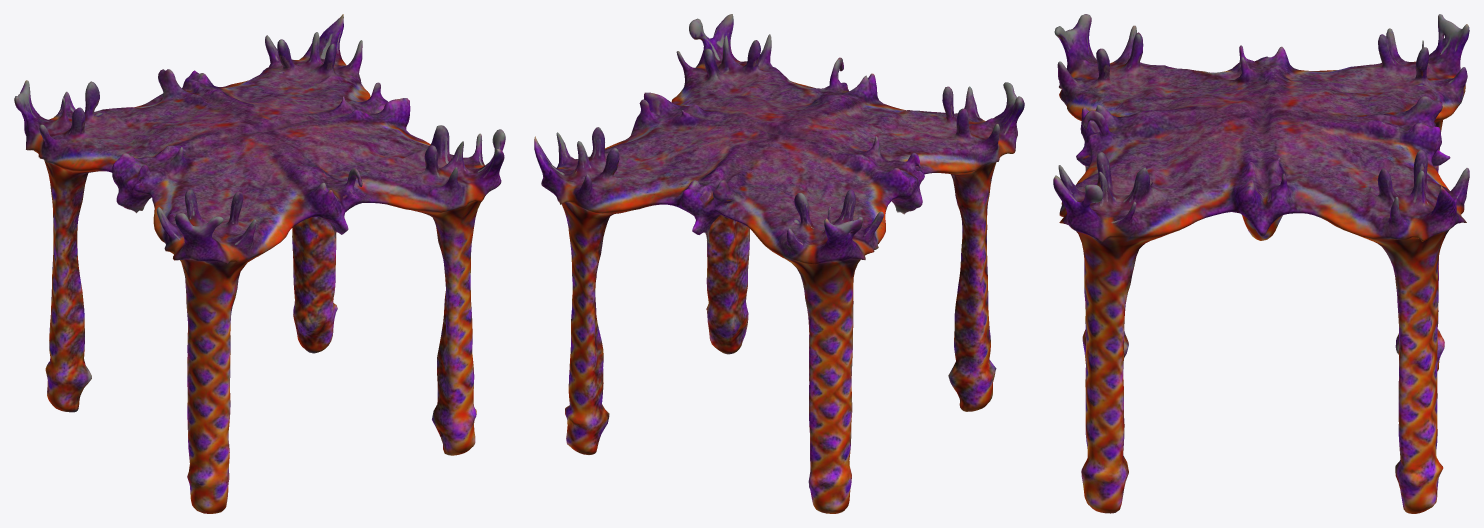
The model's file is ee5b97a8d331_88c4f2b4c6c7_starfish_pergola_un.glb.
The picture shows the model from 3 angles, left to right: view 1: azimuth 30°, elevation 25°; view 2: azimuth 150°, elevation 25°; view 3: azimuth 270°, elevation 25°; orthographic projection. The views are drawn at different scales.
Visible parts, largest first — view 1: mesh; view 2: mesh; view 3: mesh.
Part boxes in pixels (x1=…): mesh: x1=14, y1=14, x2=505, y2=513; mesh: x1=534, y1=14, x2=1024, y2=513; mesh: x1=1053, y1=14, x2=1469, y2=513.
Bounding box in the file's own units: 0.9952 × 0.9158 × 0.99.
1 material, 1 textured.
